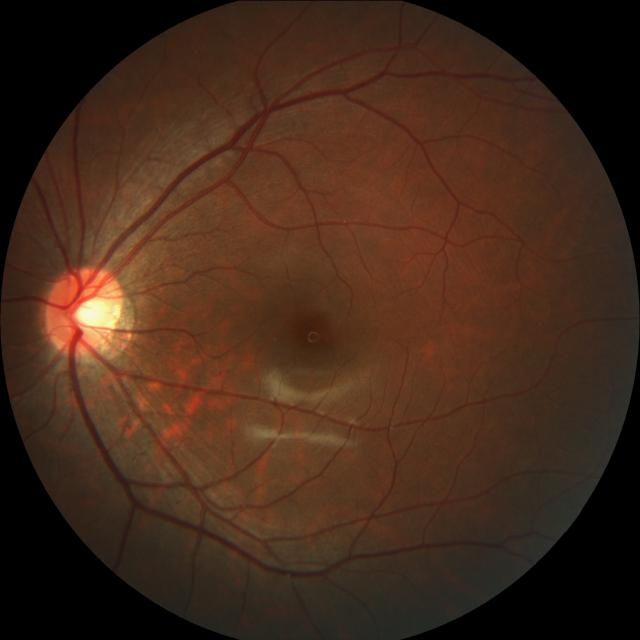OC: (66, 292, 115, 334)
OD: (42, 264, 125, 358)
